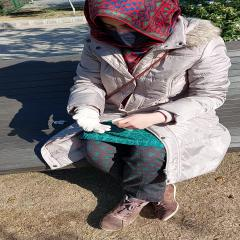gloved: (74, 107, 115, 134)
not-gloved: (114, 113, 169, 130)
